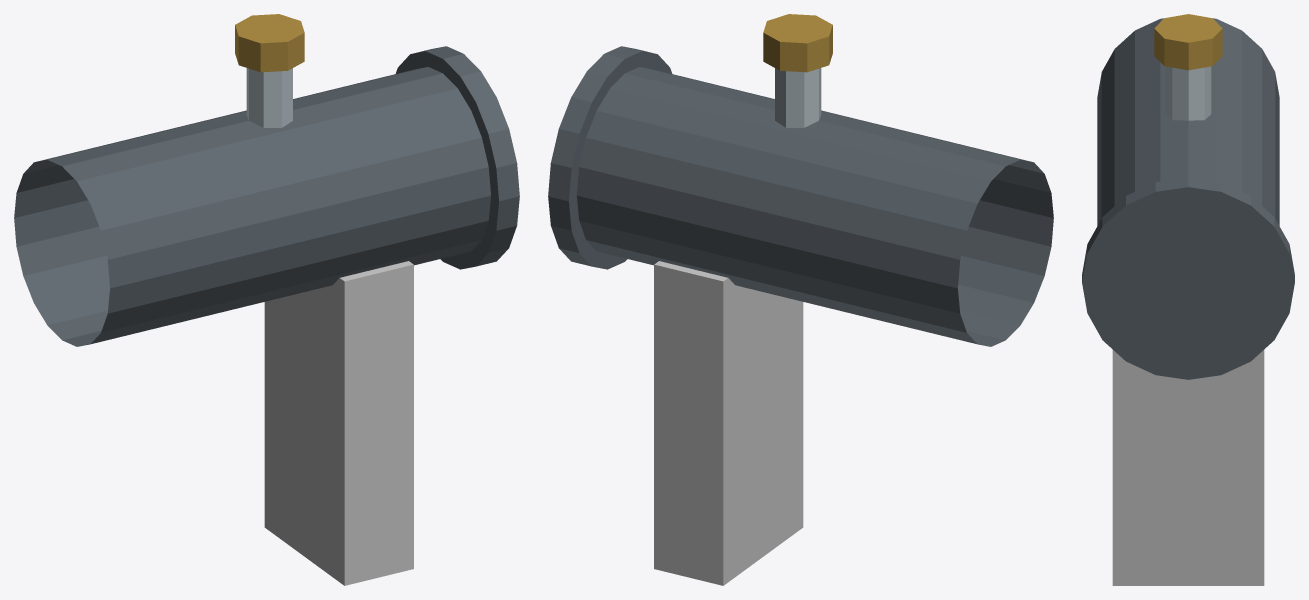
The model's file is cell_6.obj.
3 renders of one model, left to right at view 1: azimuth 30°, elevation 25°; view 2: azimuth 150°, elevation 25°; view 3: azimuth 270°, elevation 25°, orthographic. The views are drawn at different scales.
Bounding box in the file's own units: 0.58 × 0.74 × 0.28.
